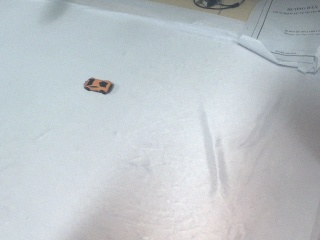toy_car: (81, 73, 116, 98)
